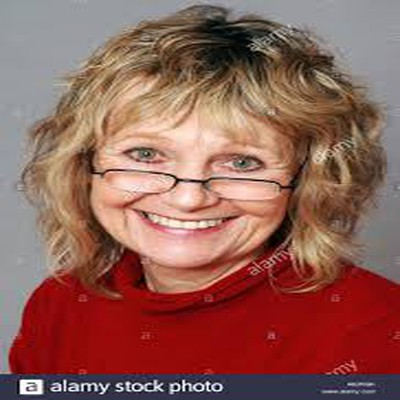eywear: (70, 123, 312, 226)
